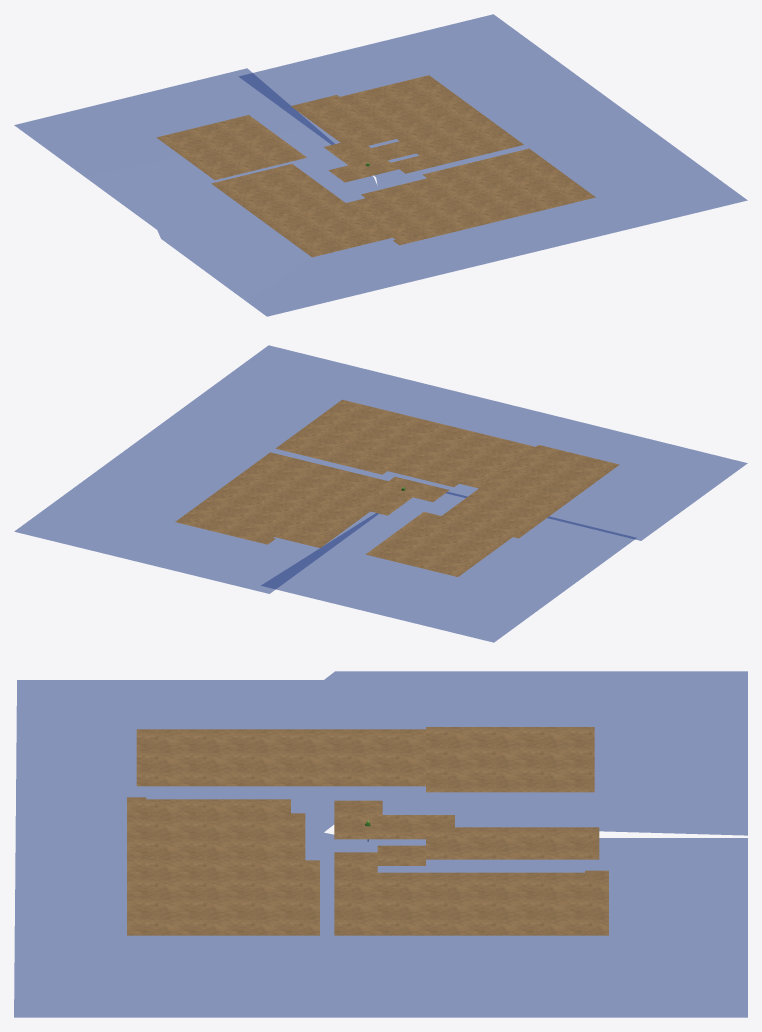
The picture shows the model from 3 angles, top to bottom: view 1: azimuth 30°, elevation 25°; view 2: azimuth 150°, elevation 25°; view 3: azimuth 270°, elevation 25°; orthographic projection. The views are drawn at different scales.
Parts seen in each view (by area): view 1: lib:nongchang_shui, lib:nongchang_floor; view 2: lib:nongchang_shui, lib:nongchang_floor; view 3: lib:nongchang_shui, lib:nongchang_floor.
Boxes of the visible parts, left/top/right/bottom form: lib:nongchang_shui: left=14, top=14, right=747, bottom=316; lib:nongchang_floor: left=156, top=75, right=595, bottom=257; lib:nongchang_shui: left=14, top=345, right=747, bottom=642; lib:nongchang_floor: left=175, top=399, right=619, bottom=576; lib:nongchang_shui: left=14, top=671, right=747, bottom=1017; lib:nongchang_floor: left=127, top=727, right=608, bottom=935.
Size of the model in its own units: 166 by 4.32 by 152.
Materials: 20 (19 with a texture image).
